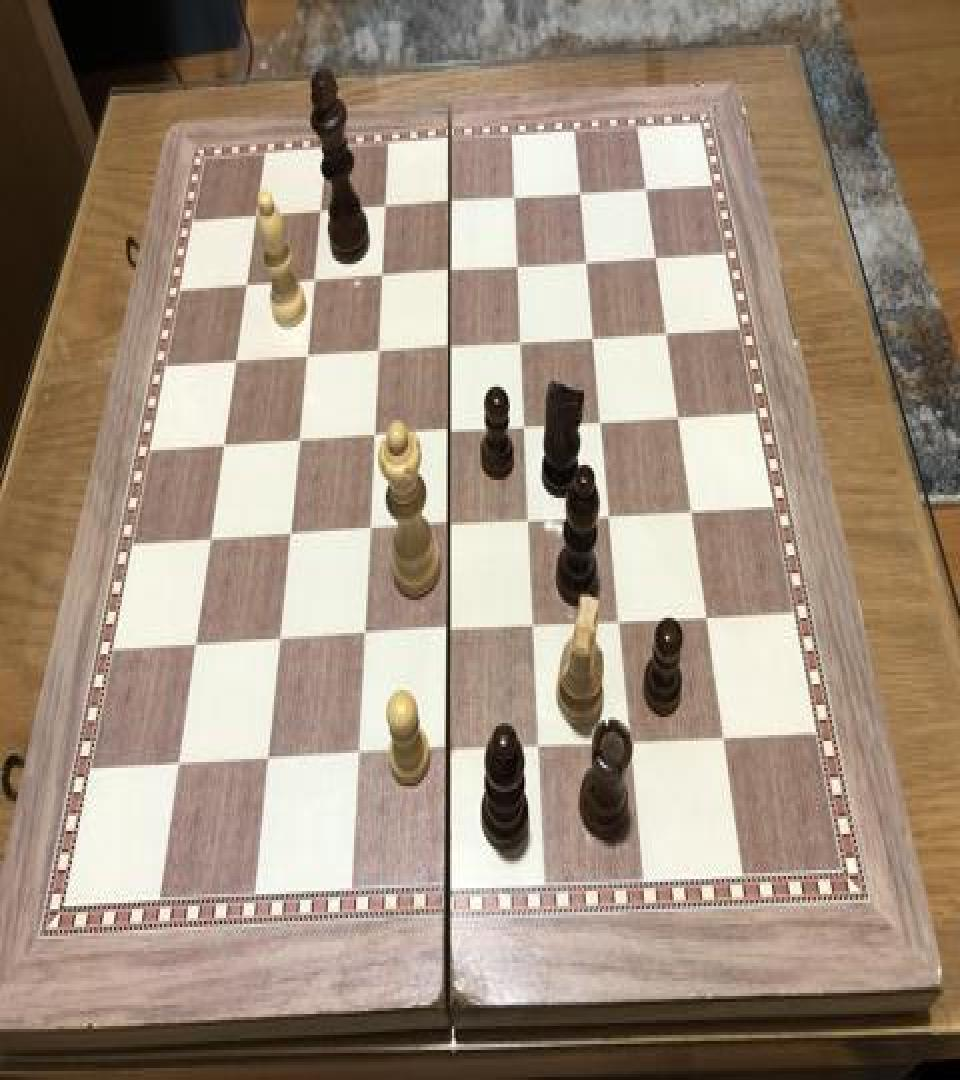xcorner: (523, 610, 547, 647), (436, 733, 460, 770), (255, 742, 279, 779), (638, 171, 662, 207), (571, 176, 595, 212), (505, 182, 529, 218), (440, 186, 464, 222), (374, 190, 398, 226), (310, 196, 334, 232), (245, 201, 269, 237), (648, 240, 672, 276), (577, 244, 601, 280), (508, 249, 532, 285), (439, 255, 463, 291), (303, 266, 327, 302), (235, 270, 259, 306), (658, 315, 682, 351), (584, 321, 608, 357), (511, 326, 535, 362), (438, 330, 462, 366), (367, 336, 391, 372), (295, 340, 319, 376), (224, 345, 248, 381), (670, 400, 694, 436), (592, 405, 616, 441), (514, 410, 538, 446), (438, 416, 462, 452), (362, 420, 386, 456), (287, 424, 311, 460), (212, 429, 236, 465), (683, 495, 707, 531), (600, 500, 624, 536), (518, 504, 542, 540), (437, 508, 461, 544), (357, 513, 381, 549), (277, 519, 301, 555), (199, 524, 223, 560), (697, 600, 721, 636), (609, 606, 633, 642), (437, 615, 461, 651), (351, 620, 375, 656), (267, 624, 291, 660), (183, 628, 207, 664), (714, 722, 738, 758), (620, 726, 644, 762), (527, 730, 551, 766), (345, 738, 369, 774), (166, 747, 190, 783), (371, 260, 395, 295)
